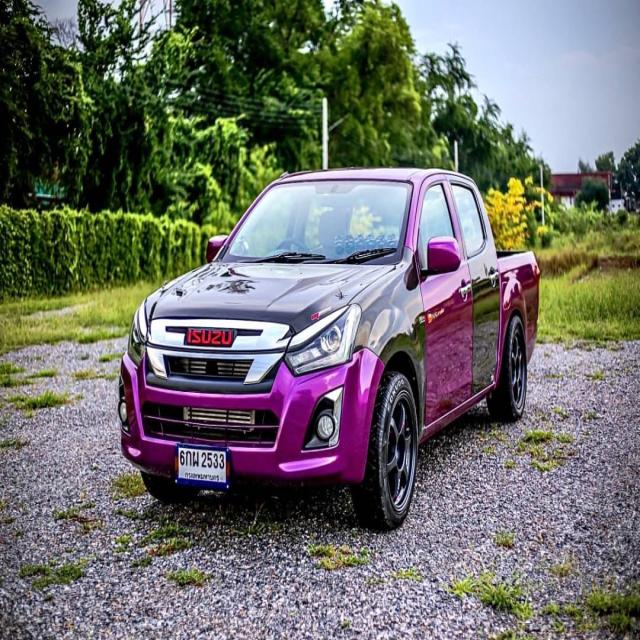license_plate: (174, 437, 236, 504)
